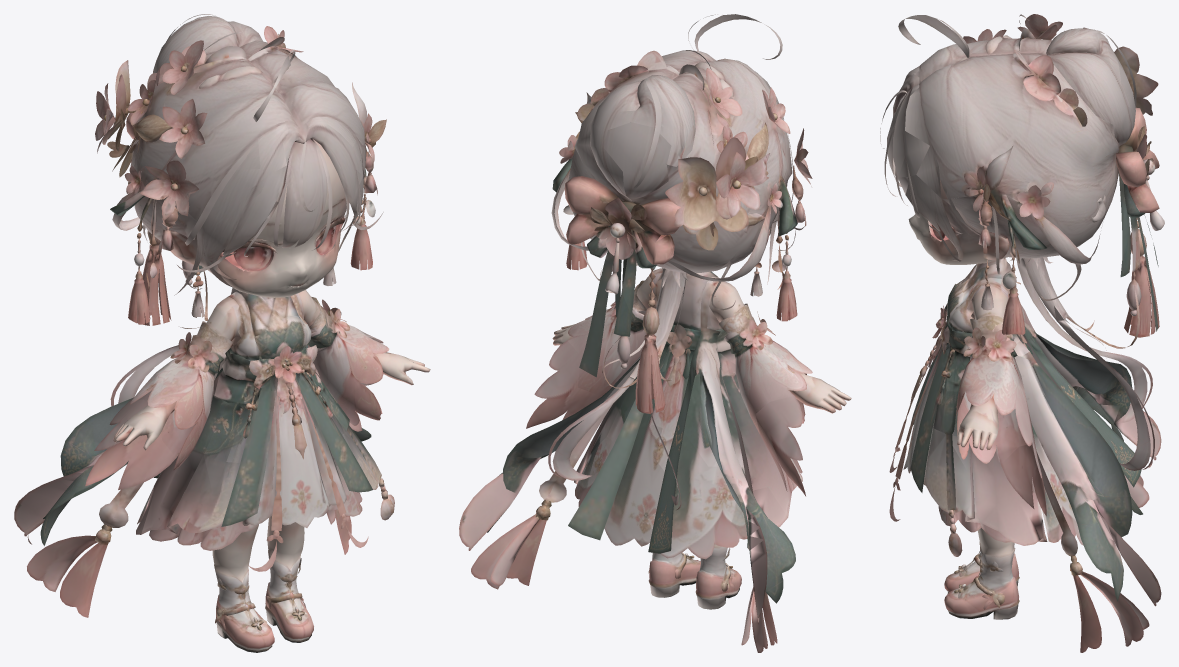
The model's file is source.glb.
3 renders of one model, left to right at view 1: azimuth 30°, elevation 25°; view 2: azimuth 150°, elevation 25°; view 3: azimuth 270°, elevation 25°, orthographic. The views are drawn at different scales.
Parts seen in each view (by area): view 1: tripo_part_17, tripo_part_19, tripo_part_6, tripo_part_0, tripo_part_5, tripo_part_35, tripo_part_18, tripo_part_43, tripo_part_8, tripo_part_68, tripo_part_2, tripo_part_46 (+35 smaller); view 2: tripo_part_17, tripo_part_35, tripo_part_19, tripo_part_114, tripo_part_6, tripo_part_21, tripo_part_124, tripo_part_3, tripo_part_5, tripo_part_23, tripo_part_132, tripo_part_125 (+34 smaller); view 3: tripo_part_18, tripo_part_21, tripo_part_45, tripo_part_35, tripo_part_5, tripo_part_1, tripo_part_48, tripo_part_0, tripo_part_16, tripo_part_24, tripo_part_3, tripo_part_17 (+32 smaller).
Part boxes in pixels (box(x1,y1,x2,y2)): tripo_part_17: box(130, 51, 297, 240); tripo_part_19: box(141, 370, 253, 534); tripo_part_6: box(129, 296, 243, 470); tripo_part_0: box(162, 139, 346, 299); tripo_part_5: box(296, 290, 389, 425); tripo_part_35: box(14, 352, 226, 545); tripo_part_18: box(240, 40, 369, 179); tripo_part_43: box(174, 124, 288, 295); tripo_part_8: box(226, 290, 311, 361); tripo_part_68: box(275, 373, 329, 527); tripo_part_2: box(212, 411, 353, 652); tripo_part_46: box(273, 139, 327, 248); tripo_part_17: box(631, 58, 792, 282); tripo_part_35: box(648, 327, 795, 617); tripo_part_19: box(607, 343, 802, 517); tripo_part_114: box(645, 432, 747, 559); tripo_part_6: box(709, 281, 812, 433); tripo_part_21: box(459, 355, 640, 548); tripo_part_124: box(579, 422, 682, 558); tripo_part_3: box(564, 176, 680, 264); tripo_part_5: box(567, 268, 663, 397); tripo_part_23: box(608, 75, 695, 166); tripo_part_132: box(604, 122, 671, 200); tripo_part_125: box(568, 399, 643, 540); tripo_part_18: box(905, 53, 1119, 269); tripo_part_21: box(1014, 356, 1161, 603); tripo_part_45: box(925, 377, 1046, 545); tripo_part_35: box(1016, 322, 1161, 487); tripo_part_5: box(956, 284, 1034, 464); tripo_part_1: box(944, 232, 1158, 619); tripo_part_48: box(1048, 52, 1135, 145); tripo_part_0: box(908, 179, 1009, 272); tripo_part_16: box(1018, 257, 1139, 350); tripo_part_24: box(1001, 413, 1046, 516); tripo_part_3: box(1116, 107, 1159, 212); tripo_part_17: box(914, 38, 1118, 265).
Size of the model in its own units: 0.5721 by 1 by 0.4421.
1 material, 1 textured.
